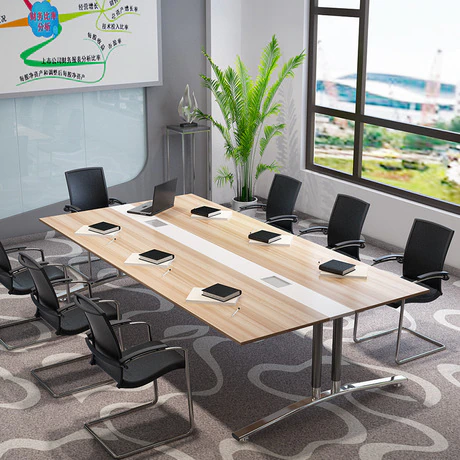conference_table: (39, 192, 427, 444)
